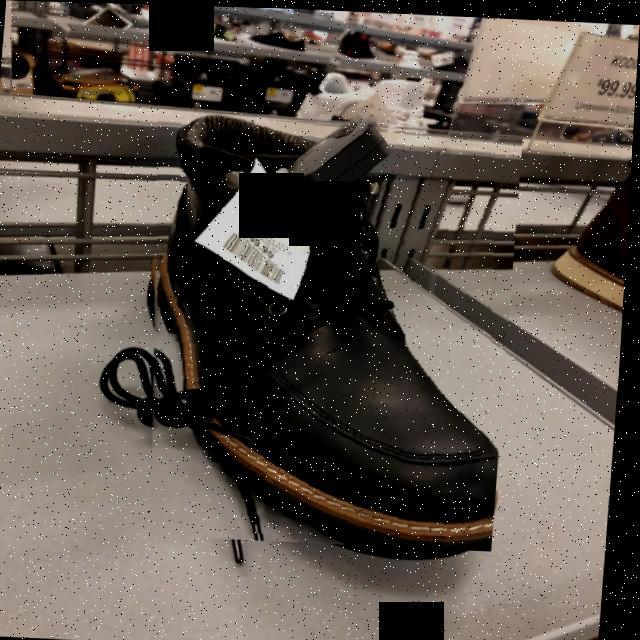shoe: (155, 116, 503, 548)
